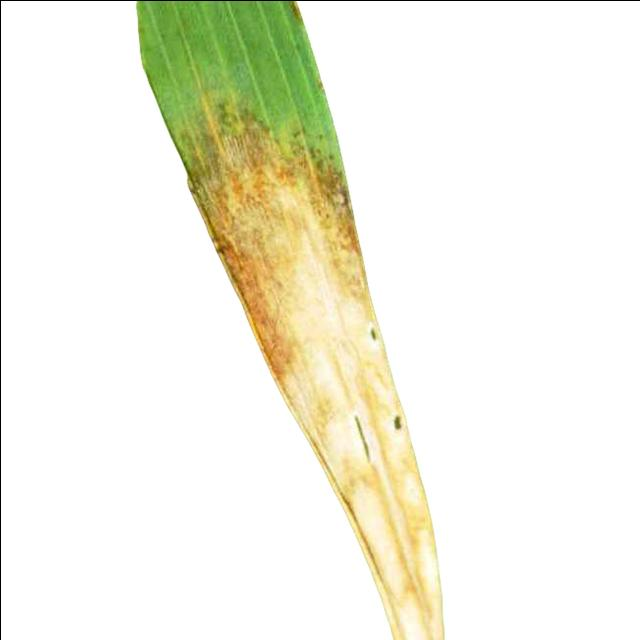Leaf scald: (110, 0, 475, 640)
